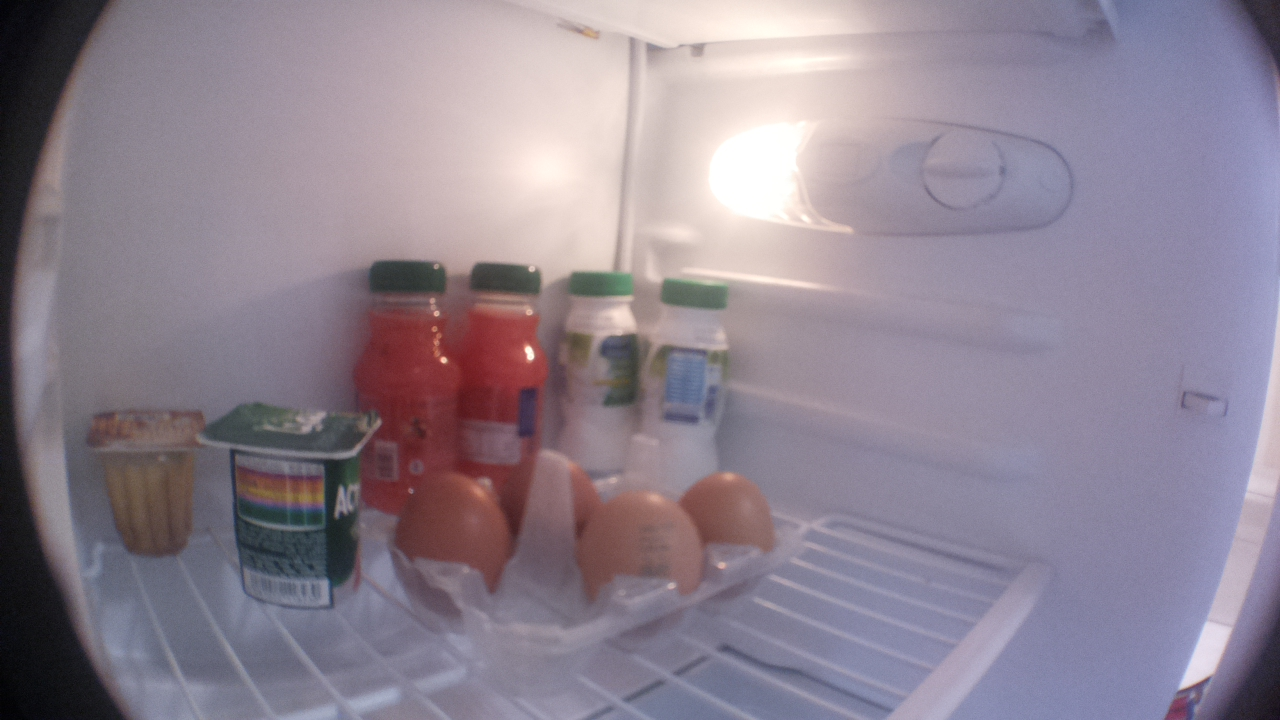caramel: (79, 395, 213, 563)
egg: (572, 489, 712, 650), (389, 465, 511, 626), (677, 473, 790, 607), (500, 445, 612, 547)
juice: (342, 255, 459, 518), (449, 254, 561, 494)
laban: (634, 262, 752, 492), (549, 260, 648, 469)
yoghurt: (189, 390, 385, 615)
